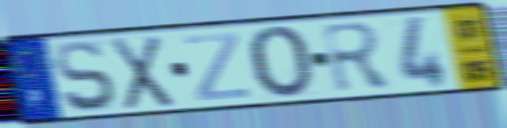4: (398, 14, 451, 91)
O: (244, 23, 315, 101)
R: (318, 19, 397, 96)
S: (52, 38, 119, 115)
X: (108, 32, 176, 113)
Z: (182, 30, 252, 104)
